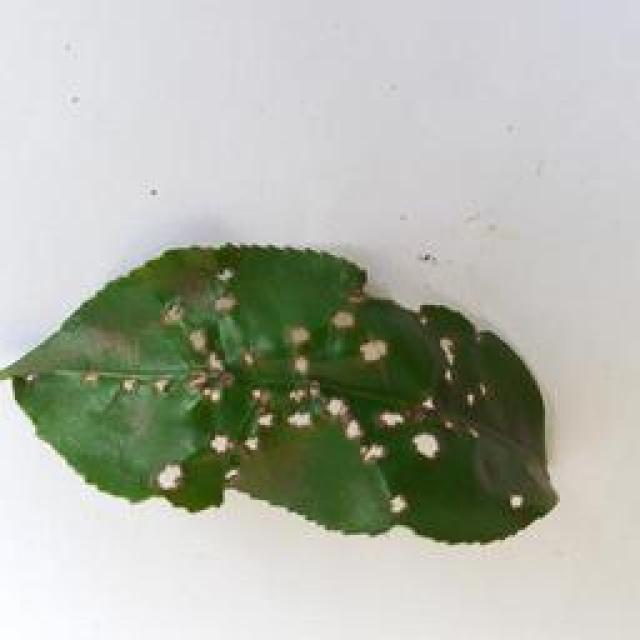Helopeltis: (2, 220, 590, 551)
